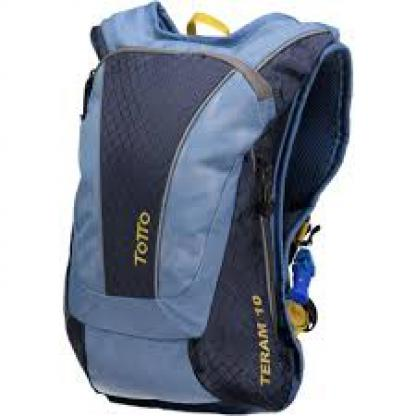morral: (57, 2, 355, 414), (68, 2, 355, 414)
